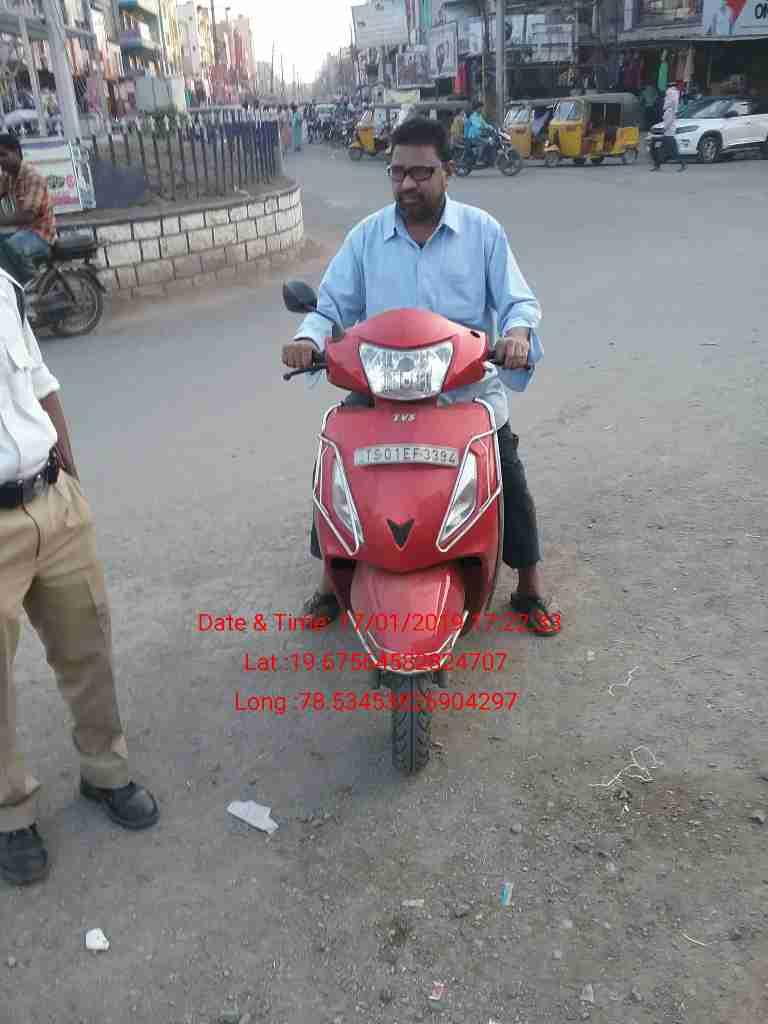plate: (349, 439, 465, 474)
